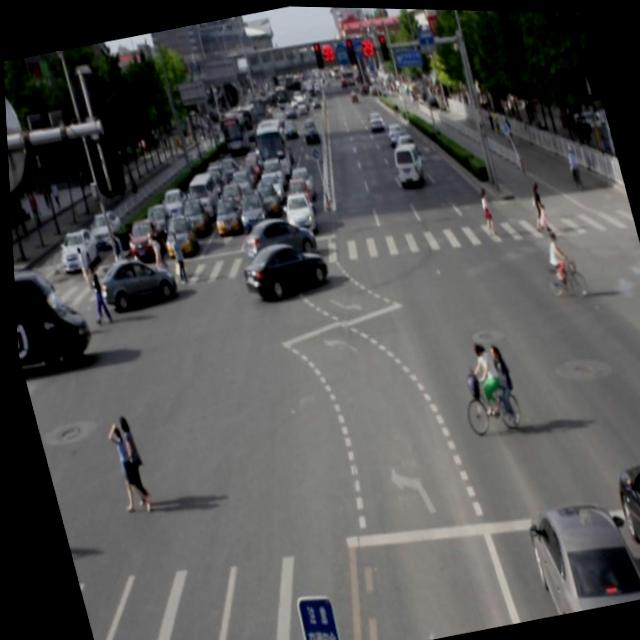car: (516, 484, 640, 616), (231, 230, 328, 303), (89, 244, 178, 312), (603, 444, 640, 595), (238, 207, 316, 268)
